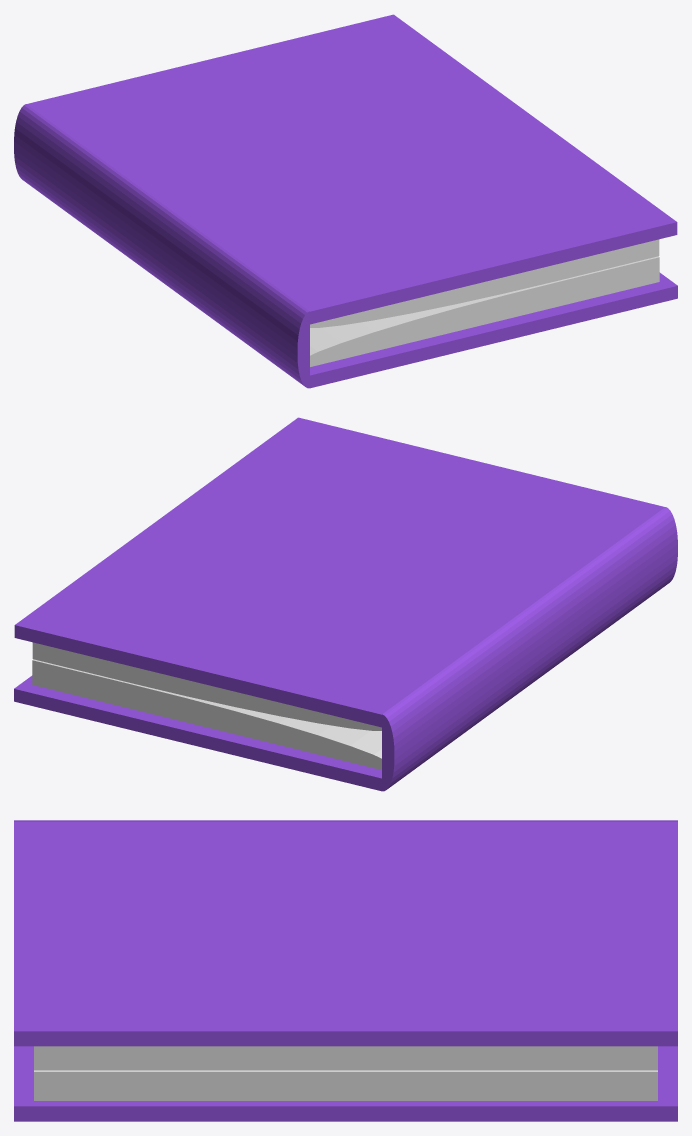
The model's file is Book1.fbx.
The picture shows the model from 3 angles, top to bottom: view 1: azimuth 30°, elevation 25°; view 2: azimuth 150°, elevation 25°; view 3: azimuth 270°, elevation 25°; orthographic projection. The views are drawn at different scales.
Parts seen in each view (by area): view 1: Cover L, Spine, Cube, Cover R, Cube.001; view 2: Cover L, Spine, Cube, Cover R, Cube.001; view 3: Cover L, Cube, Cover R, Cube.001, Spine.
Boxes of the visible parts, x1,y1,x2,y2 form: Cover L: (27, 14, 677, 324); Spine: (14, 104, 309, 388); Cube: (310, 256, 659, 366); Cover R: (309, 272, 677, 388); Cube.001: (310, 239, 659, 327); Cover L: (14, 417, 664, 727); Spine: (382, 507, 677, 791); Cube: (32, 659, 381, 769); Cover R: (14, 675, 382, 791); Cube.001: (32, 642, 381, 730); Cover L: (14, 821, 677, 1046); Cube: (34, 1070, 657, 1100); Cover R: (14, 1046, 677, 1121); Cube.001: (34, 1046, 657, 1070); Spine: (14, 820, 677, 821).
Size of the model in its own units: 155 by 29.96 by 200.
